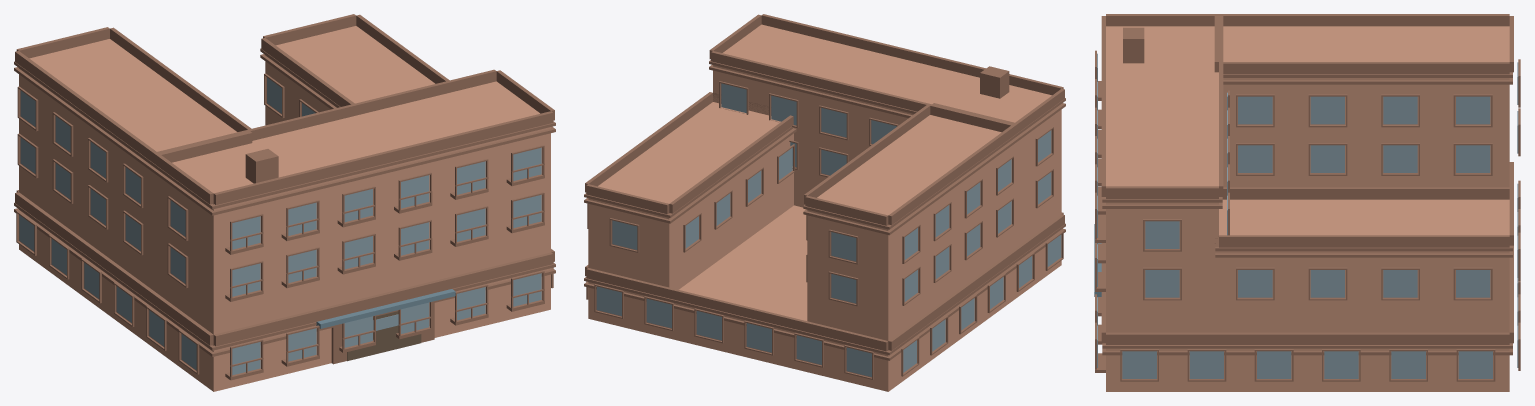
File: residential_3x3_court.glb
3 renders of one model, left to right at view 1: azimuth 30°, elevation 25°; view 2: azimuth 150°, elevation 25°; view 3: azimuth 270°, elevation 25°, orthographic. The views are drawn at different scales.
Parts seen in each view (by area): view 1: residential_3x3_court_0; view 2: residential_3x3_court_0; view 3: residential_3x3_court_0.
Part boxes in pixels (x1,y1,x2,y2): residential_3x3_court_0: (14, 14, 555, 391); residential_3x3_court_0: (584, 14, 1065, 391); residential_3x3_court_0: (1094, 14, 1520, 391).
Size of the model in its own units: 23.74 by 13.5 by 23.77.
